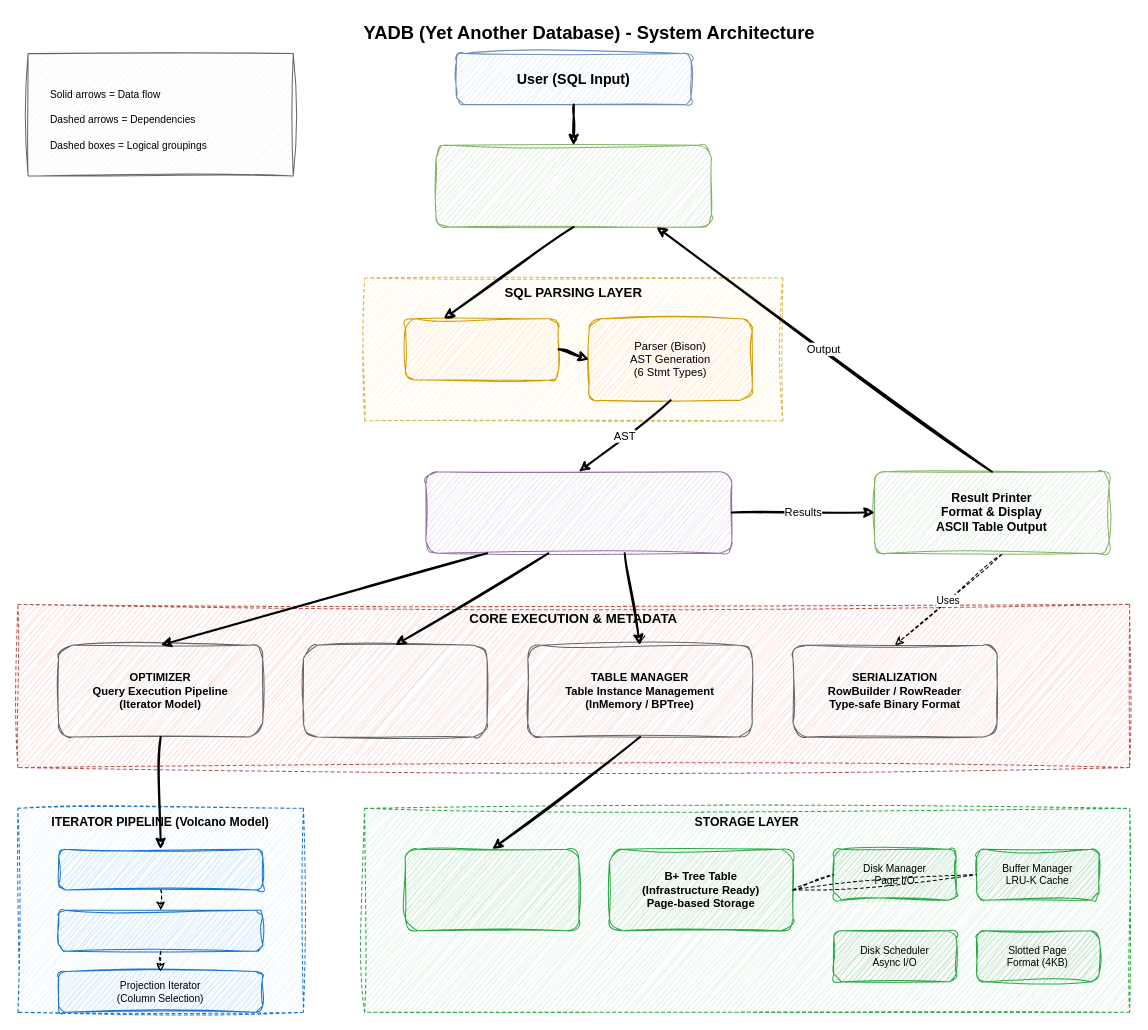
Some shapes in this 1148 by 1030 pixel diagram are drawn without their labels. Here are the shapes that lost their labels. From the top down, the box of each, then its label:
(27, 53, 293, 176): LEGEND
(435, 144, 711, 227): Shell / Main Entry Point (REPL with Replxx) Interactive & CLI Mode
(404, 318, 558, 380): Lexer (Flex) Tokenization
(425, 471, 732, 553): EXECUTOR Statement Dispatcher (SELECT, INSERT, CREATE, DROP, etc.)
(302, 644, 487, 737): CATALOG Schema Management Table Metadata
(58, 848, 263, 890): FileScan Iterator (Table Scan)
(404, 848, 579, 931): In-Memory Table (Default) std::map storage
(58, 909, 263, 951): Selection Iterator (WHERE Clause Filter)
